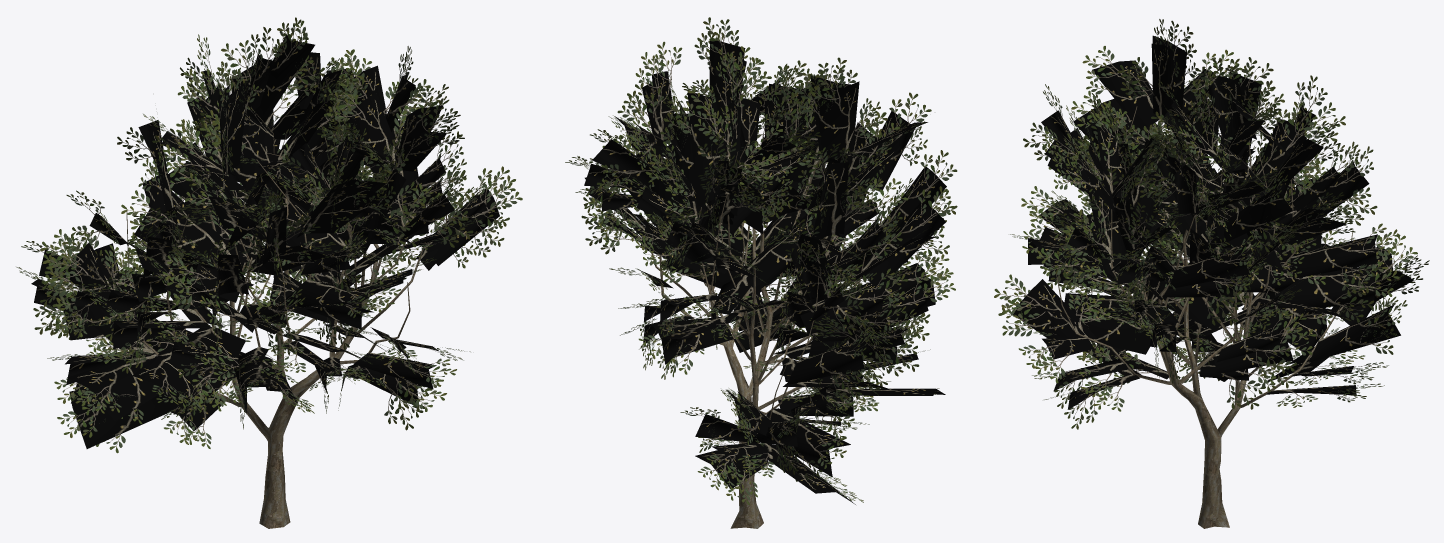
File: sm_tree.fbx
3 views of the same model, side by side, from view 1: azimuth 30°, elevation 25°; view 2: azimuth 150°, elevation 25°; view 3: azimuth 270°, elevation 25° (orthographic). The views are drawn at different scales.
Visible parts, largest first — view 1: sm_vegetation2; view 2: sm_vegetation2; view 3: sm_vegetation2.
Boxes of the visible parts, left/top/right/bottom form: sm_vegetation2: left=16, top=17, right=522, bottom=528; sm_vegetation2: left=565, top=17, right=957, bottom=528; sm_vegetation2: left=994, top=19, right=1429, bottom=528.
Size of the model in its own units: 9.54 by 10.63 by 8.84.
